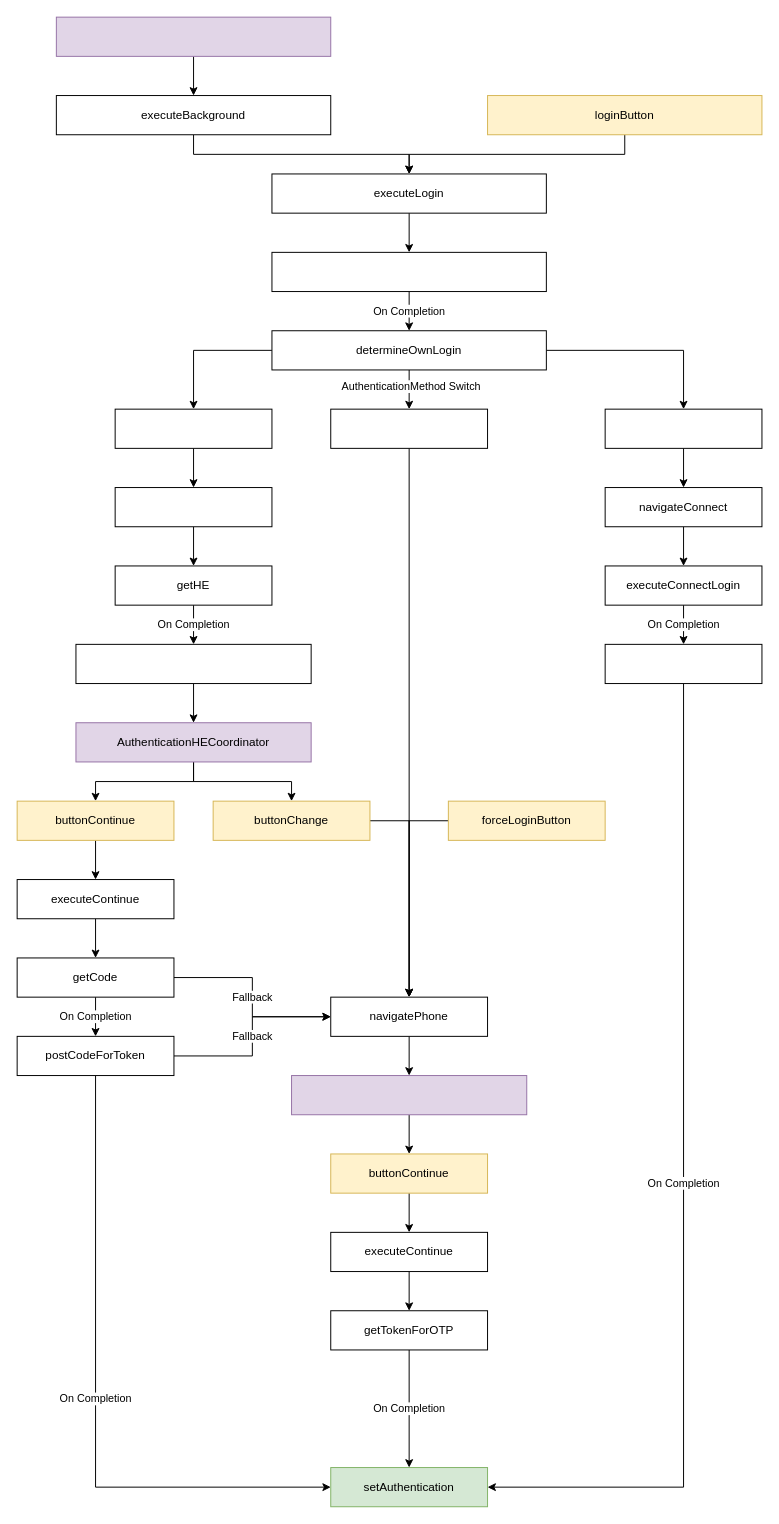
Image size: 779x1524. Some labels were removed from this diagram. Each missing label, with the box of its shape:
AuthenticationCoordinator: (55, 16, 331, 56)
AuthenticationPhoneCoordinator: (291, 1075, 527, 1115)
connect: (604, 408, 762, 448)
determineLoginMethod: (271, 251, 546, 292)
executeHE: (114, 487, 272, 527)
getConnect: (604, 643, 762, 684)
he: (114, 408, 272, 448)
navigateHE(msisdn:String): (75, 643, 311, 684)
otp: (330, 408, 488, 448)
